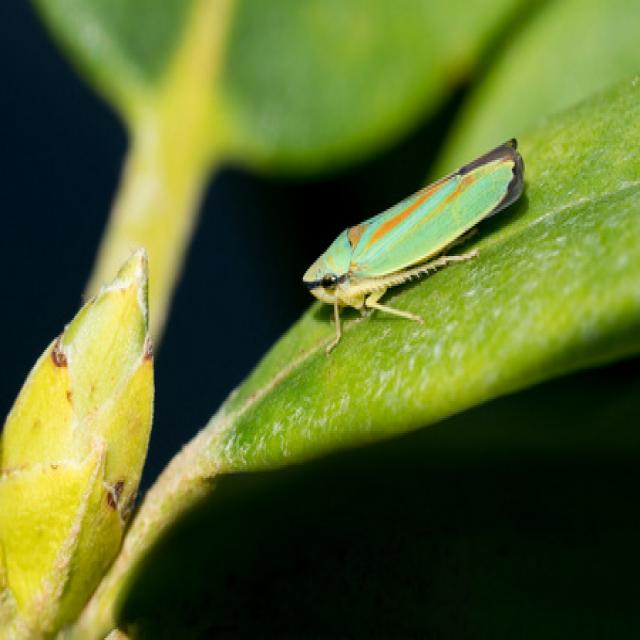Yechan: (294, 129, 531, 346)
